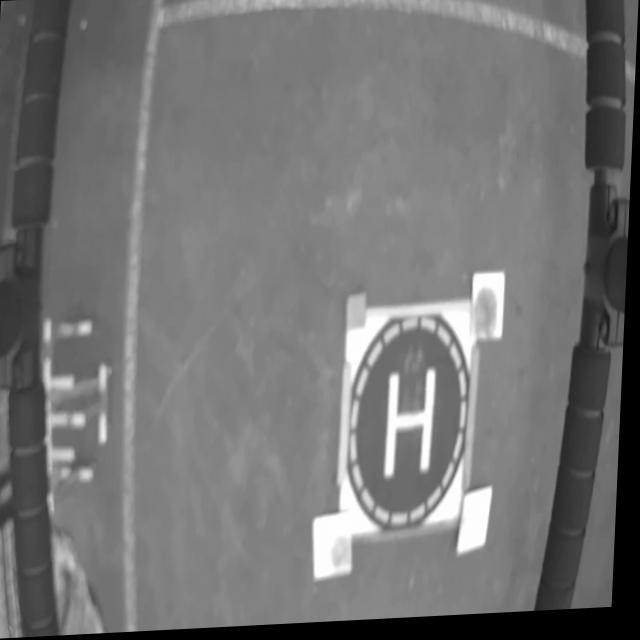Helipad: (387, 370, 440, 483)
